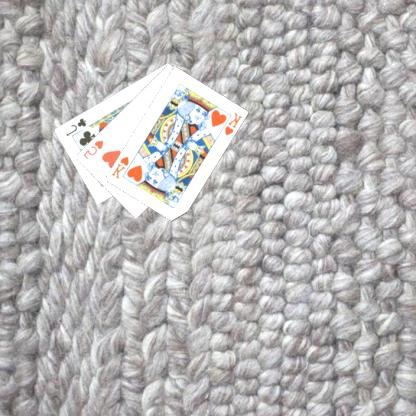5H: (82, 138, 106, 160)
JC: (64, 115, 90, 138)
KH: (223, 110, 245, 137), (110, 154, 132, 180)
